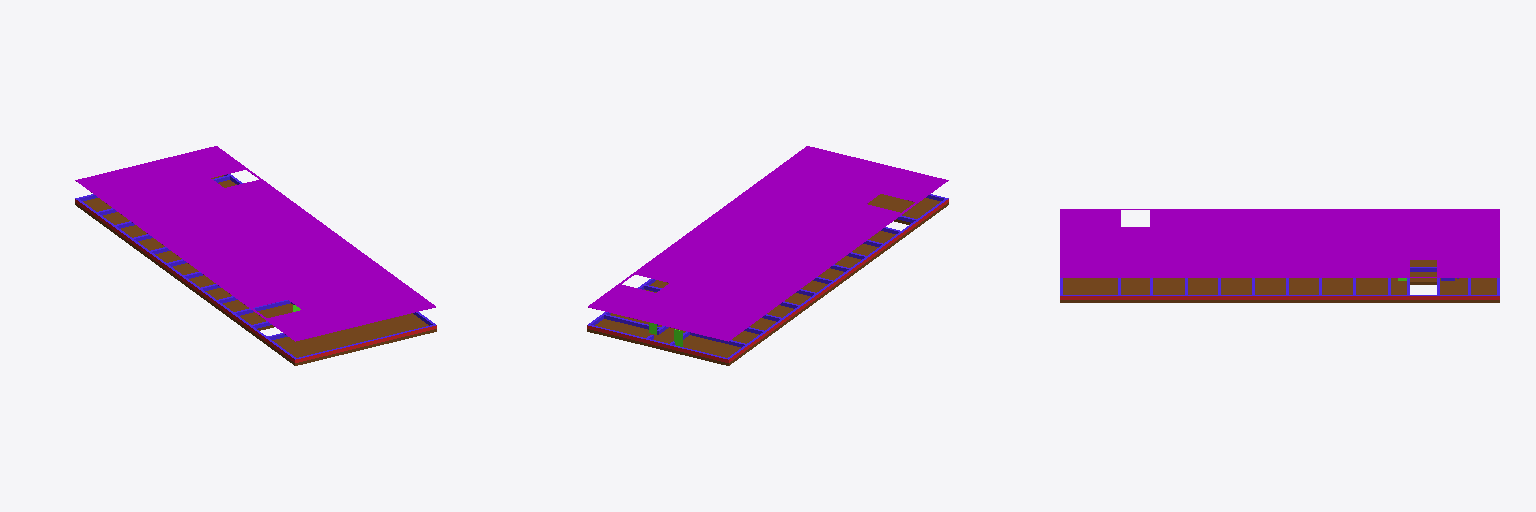
The model's file is tianguanweineibu_F4.obj.
3 views of the same model, side by side, from view 1: azimuth 30°, elevation 25°; view 2: azimuth 150°, elevation 25°; view 3: azimuth 270°, elevation 25° (orthographic).
Visible parts, largest first — view 1: TGW_dimian_F4; view 2: TGW_dimian_F4; view 3: TGW_dimian_F4.
Boxes of the visible parts, x1,y1,x2,y2 form: TGW_dimian_F4: [75, 146, 436, 365]; TGW_dimian_F4: [587, 146, 948, 365]; TGW_dimian_F4: [1060, 209, 1499, 302].
Size of the model in its own units: 2059 by 341 by 5546.